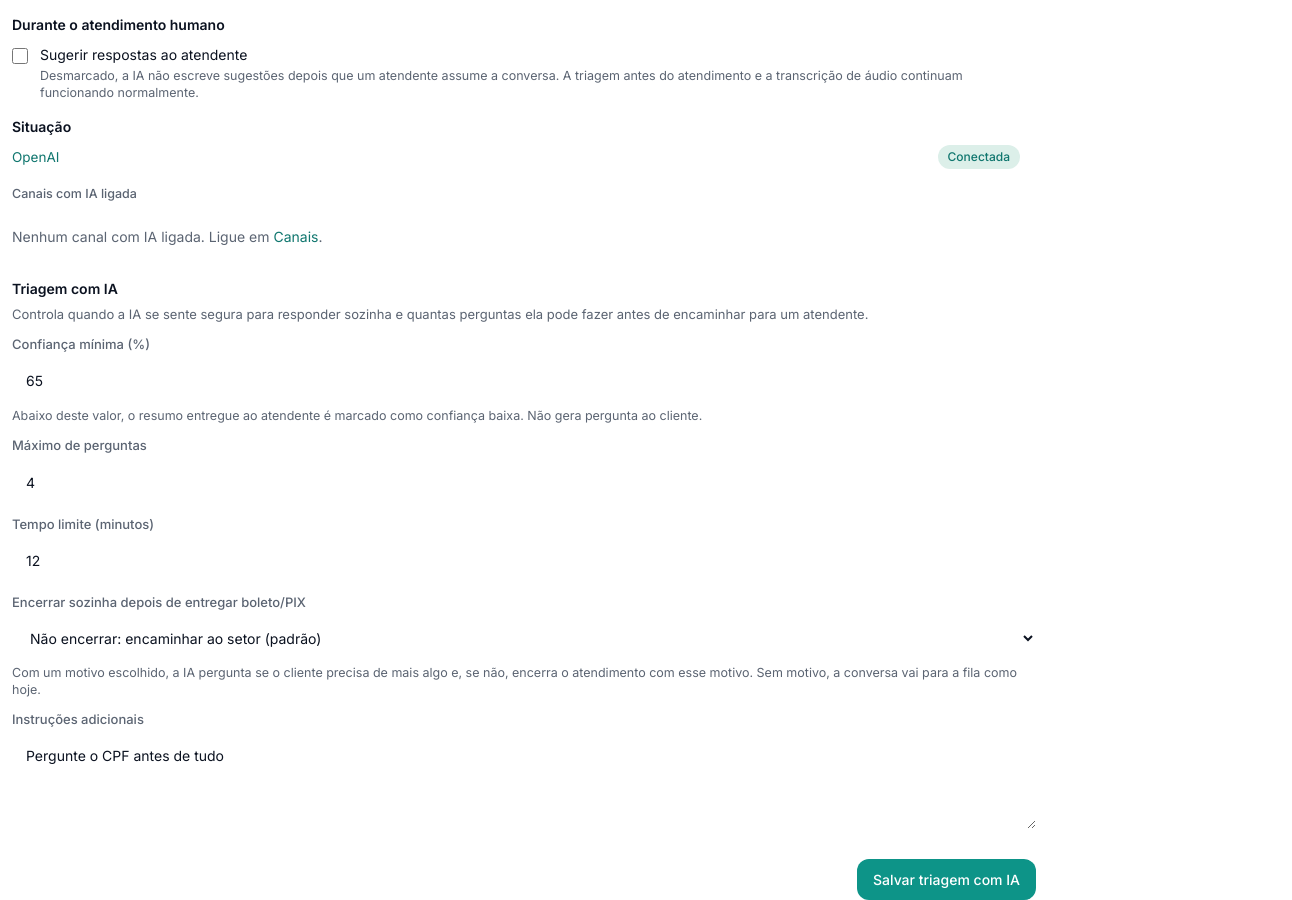
Test: AiTriagePage › mostra o erro devolvido pelo backend
(page scrolled)
Click the button "Salvar triagem com IA". click: (946, 880)
box: [857,859,1036,899]
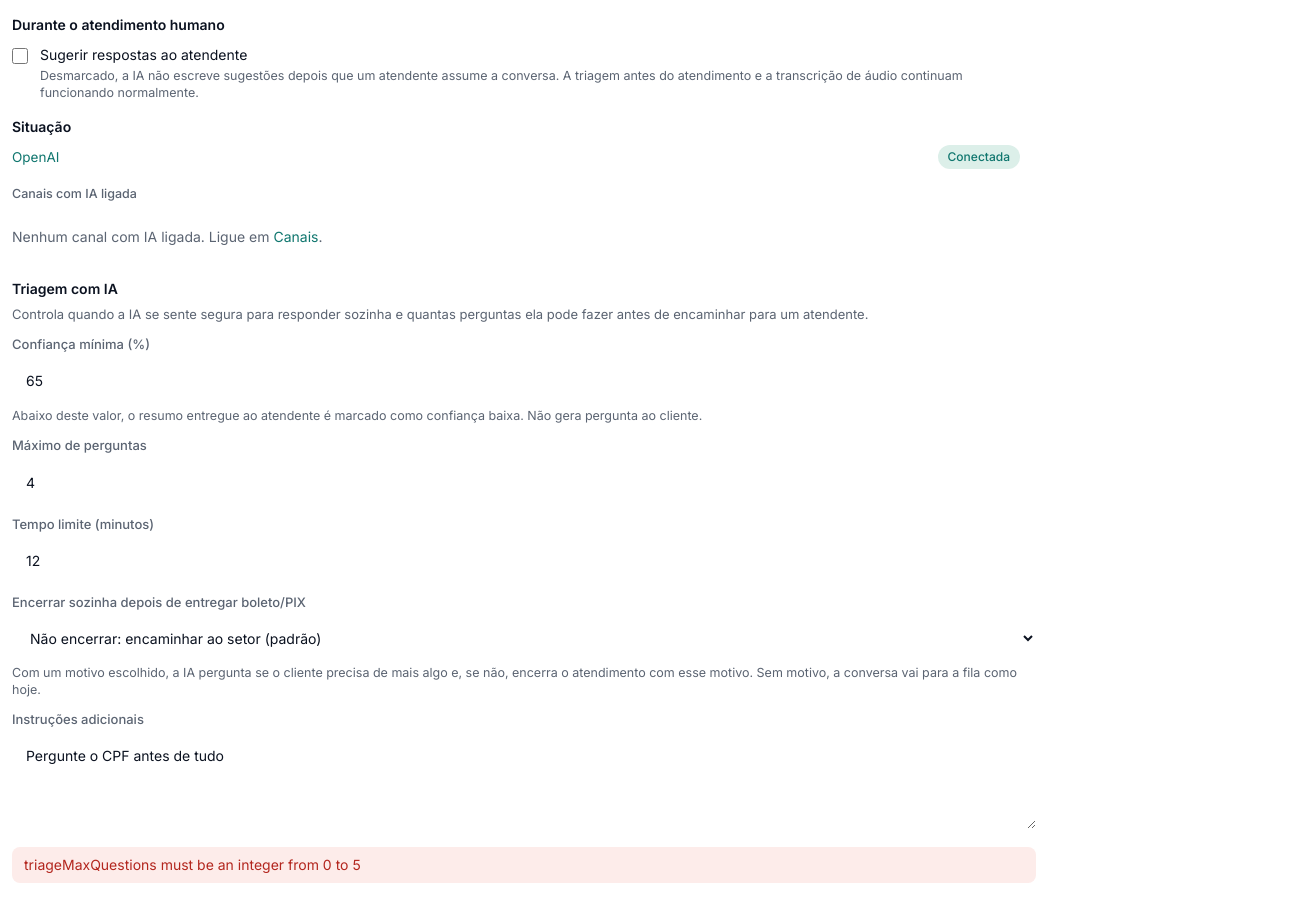
Check: the text "triageMaxQuestions must be an integer from 0 to 5" is shown, box [12,847,1036,883]
